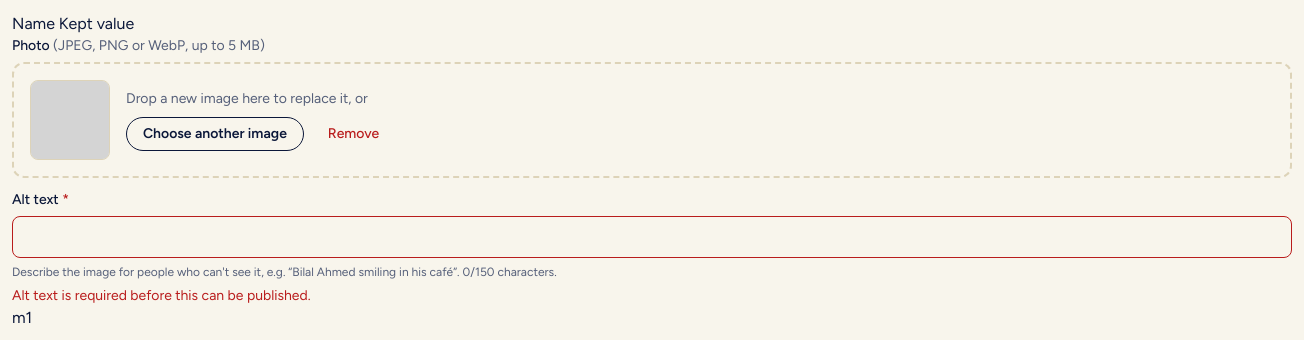
it: ImageField › counts alt text characters and explains why it's needed
Check: the text "Alt text is required before this can be published." is shown, box [12,287,311,304]
Type "Ayesha" into the field labelled "Alt text *" at (652, 237), box [12,216,1292,258]
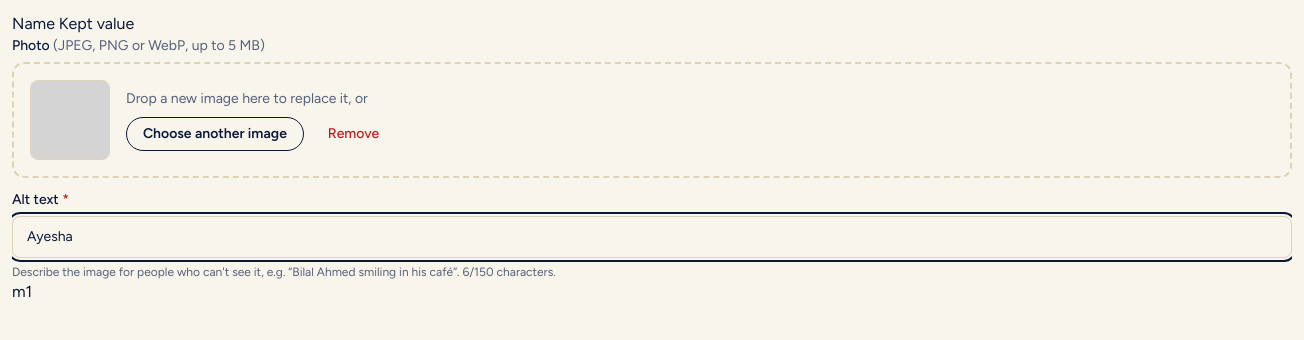
Check: the text "6/150 characters" is shown, box [12,265,556,279]
